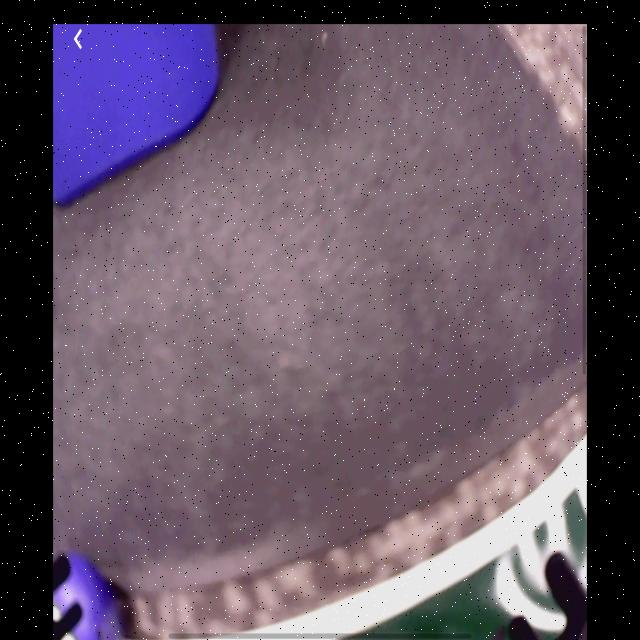ball: (54, 554, 110, 640)
